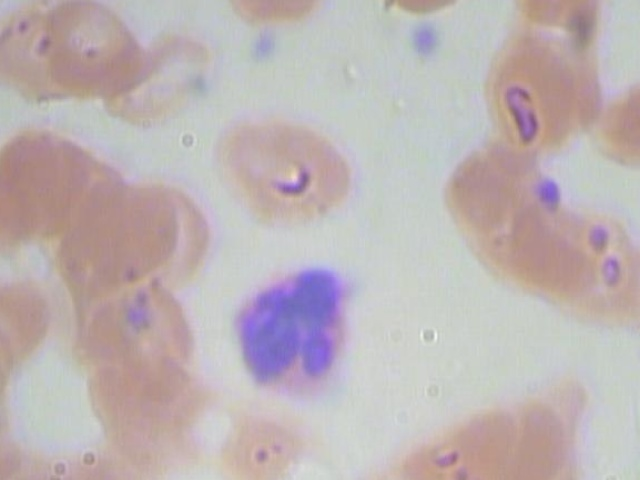Platelets: (401, 18, 445, 71), (246, 21, 290, 73)
RBC: (210, 106, 354, 232), (478, 28, 591, 165), (104, 26, 229, 132), (0, 121, 89, 248), (73, 180, 178, 286), (44, 0, 149, 99), (467, 392, 572, 480), (213, 396, 318, 480), (408, 403, 513, 480), (218, 0, 343, 35), (504, 0, 613, 29), (375, 0, 492, 20)
WBC: (221, 253, 359, 412)
